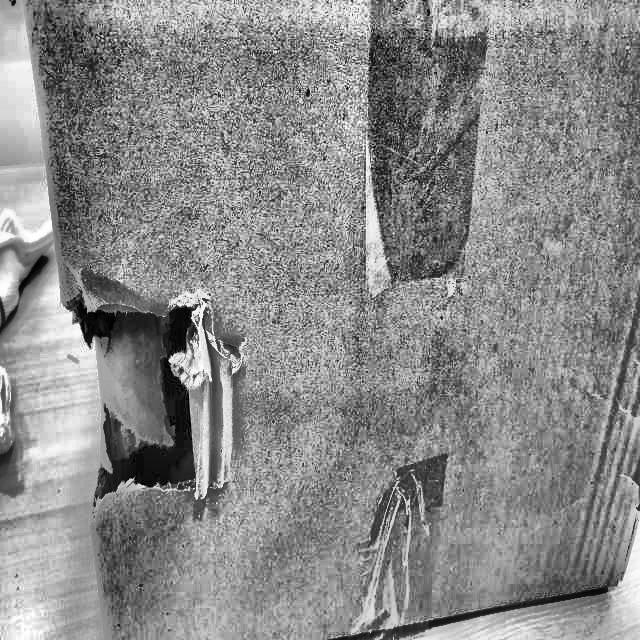box: (22, 0, 640, 636)
hole: (70, 261, 240, 545)
